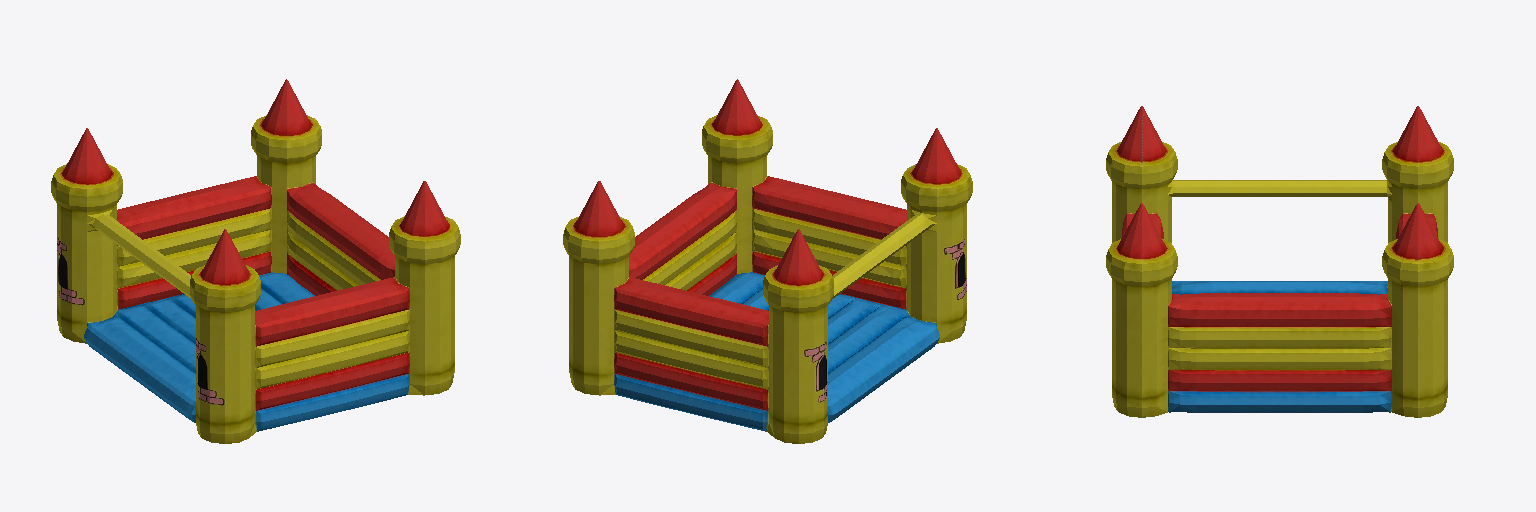
The picture shows the model from 3 angles: view 1: azimuth 30°, elevation 25°; view 2: azimuth 150°, elevation 25°; view 3: azimuth 270°, elevation 25°; orthographic projection.
Visible parts, largest first — view 1: Object_BounceCastle_Dif_01.jpg; view 2: Object_BounceCastle_Dif_01.jpg; view 3: Object_BounceCastle_Dif_01.jpg.
Part boxes in pixels (x1,y1,x2,y2): Object_BounceCastle_Dif_01.jpg: (51, 79, 460, 443); Object_BounceCastle_Dif_01.jpg: (563, 79, 972, 443); Object_BounceCastle_Dif_01.jpg: (1106, 106, 1453, 417).
Bounding box in the file's own units: 2.17 × 1.61 × 2.5.
Materials: 2 (1 with a texture image).